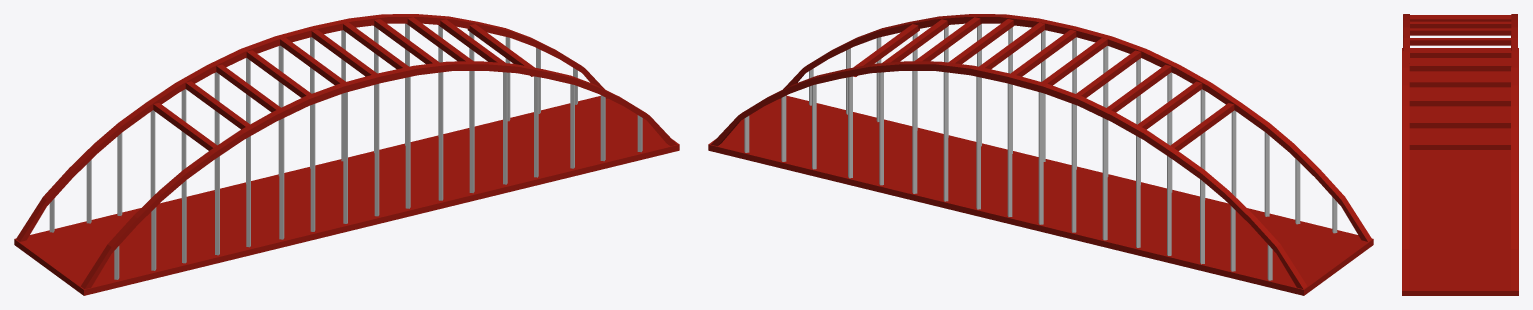
The model's file is simpletiedarchbridge.obj.
3 renders of one model, left to right at view 1: azimuth 30°, elevation 25°; view 2: azimuth 150°, elevation 25°; view 3: azimuth 270°, elevation 25°, orthographic. The views are drawn at different scales.
Parts seen in each view (by area): view 1: Cube_Cube.047; view 2: Cube_Cube.047; view 3: Cube_Cube.047.
Part boxes in pixels (<box>): Cube_Cube.047: <box>14,14,679,295</box>; Cube_Cube.047: <box>708,14,1373,295</box>; Cube_Cube.047: <box>1402,14,1518,295</box>.
Bounding box in the file's own units: 21.34 × 5.01 × 4.33.
